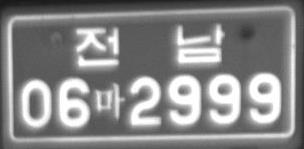0: (20, 77, 53, 128)
2: (129, 75, 161, 126)
6: (58, 75, 91, 127)
9: (167, 74, 203, 125), (248, 70, 282, 124), (207, 72, 241, 124)
마: (94, 82, 125, 120)
전남_D: (75, 22, 225, 66)
